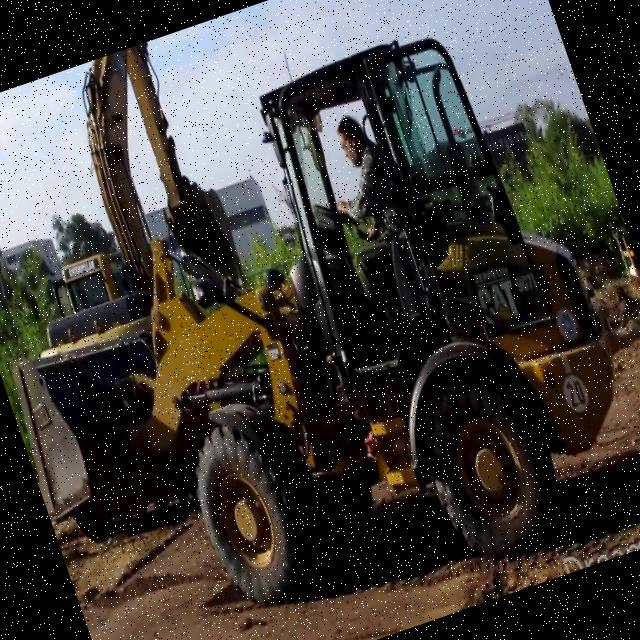Excavator: (0, 35, 251, 361)
Loader: (0, 5, 640, 640)
